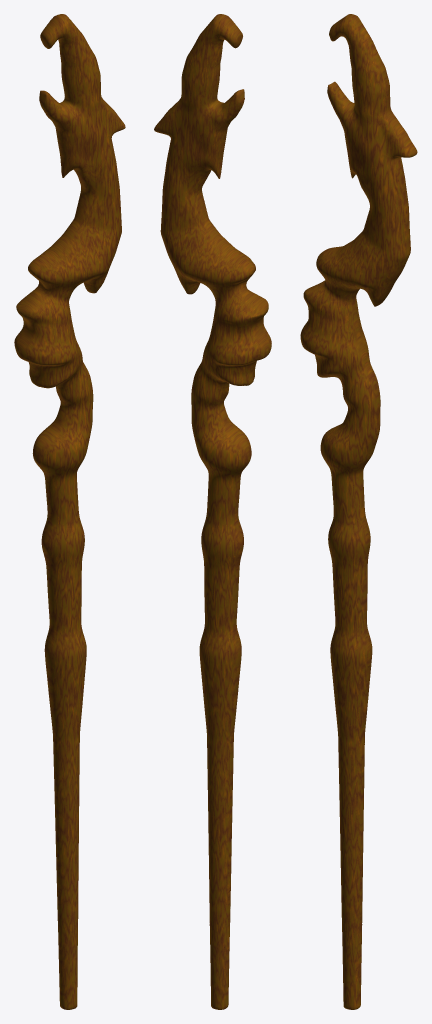
File: Wood_staff.glb
3 views of the same model, side by side, from view 1: azimuth 30°, elevation 25°; view 2: azimuth 150°, elevation 25°; view 3: azimuth 330°, elevation 25° (orthographic).
Visible parts, largest first — view 1: Cylinder; view 2: Cylinder; view 3: Cylinder.
Part boxes in pixels (x1,y1,x2,y2): Cylinder: (14, 14, 125, 1009); Cylinder: (154, 14, 271, 1009); Cylinder: (300, 14, 417, 1009).
Bounding box in the file's own units: 0.9778 × 8.61 × 0.5191.
1 material, 1 textured.
